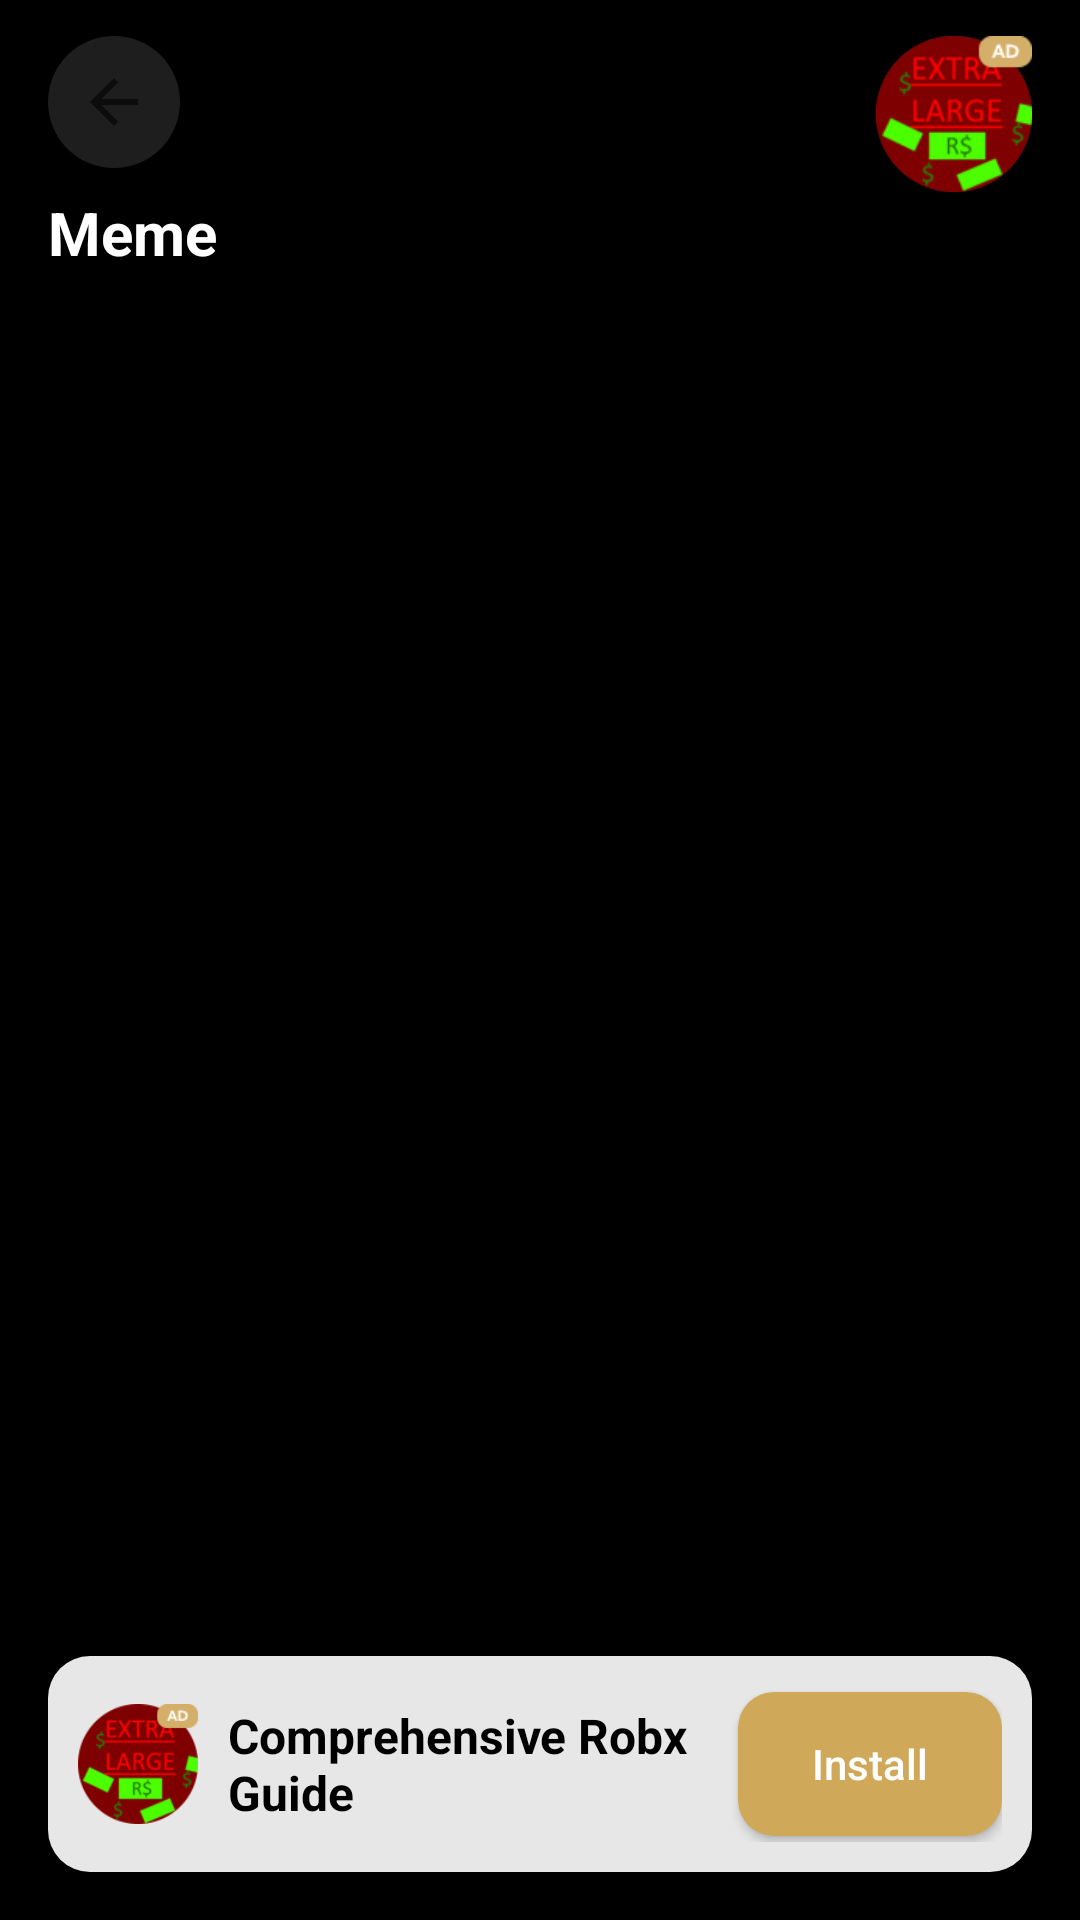

Named icons in this screenshot (1080px x 1920px) and their centers, [x,y]:
ab back: [114,102]
